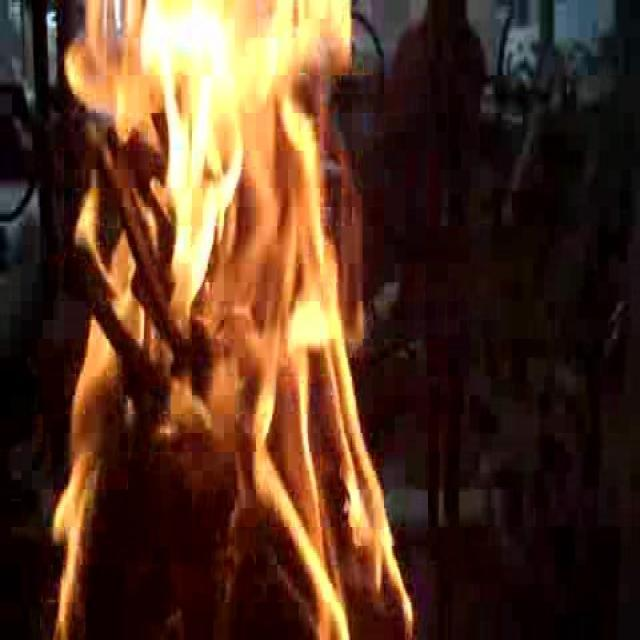Fire: (54, 3, 382, 636)
